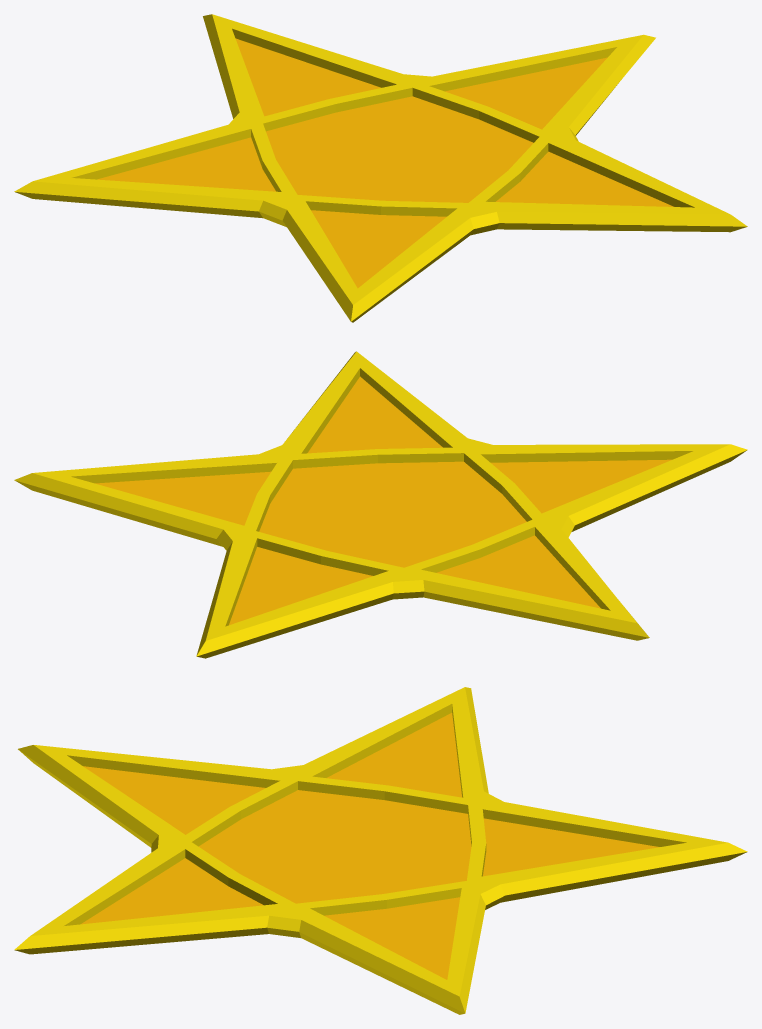
File: star_emission.fbx
3 views of the same model, one above another, from view 1: azimuth 30°, elevation 25°; view 2: azimuth 150°, elevation 25°; view 3: azimuth 270°, elevation 25° (orthographic). The views are drawn at different scales.
Parts seen in each view (by area): view 1: frame, glass_center, glass_4, glass_1, glass_2, glass_5, glass_3; view 2: frame, glass_center, glass_3, glass_1, glass_5, glass_4, glass_2; view 3: frame, glass_center, glass_5, glass_2, glass_4, glass_1, glass_3.
Part boxes in pixels (left/top/right/bottom): frame: left=14, top=14, right=747, bottom=322; glass_center: left=266, top=96, right=533, bottom=202; glass_4: left=311, top=210, right=446, bottom=288; glass_1: left=235, top=38, right=381, bottom=116; glass_2: left=445, top=57, right=607, bottom=129; glass_5: left=97, top=137, right=275, bottom=191; glass_3: left=496, top=151, right=673, bottom=206; frame: left=14, top=351, right=747, bottom=658; glass_center: left=259, top=461, right=526, bottom=567; glass_3: left=307, top=376, right=442, bottom=453; glass_1: left=229, top=547, right=372, bottom=625; glass_5: left=436, top=535, right=600, bottom=608; glass_4: left=491, top=459, right=671, bottom=513; glass_2: left=95, top=471, right=270, bottom=525; frame: left=14, top=687, right=747, bottom=1014; glass_center: left=198, top=790, right=471, bottom=903; glass_5: left=326, top=713, right=462, bottom=797; glass_2: left=324, top=897, right=460, bottom=979; glass_4: left=83, top=766, right=265, bottom=834; glass_1: left=483, top=818, right=659, bottom=876; glass_3: left=81, top=858, right=263, bottom=924.
Size of the model in its own units: 9.7 by 0.2551 by 9.25.
